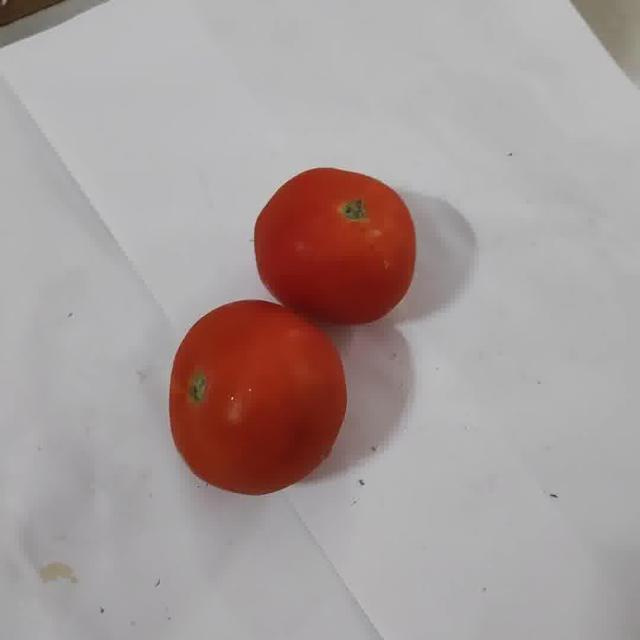Tomato: (169, 300, 345, 495), (254, 168, 416, 325)
